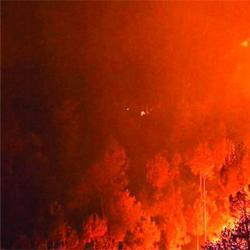fire: (204, 209, 238, 244)
